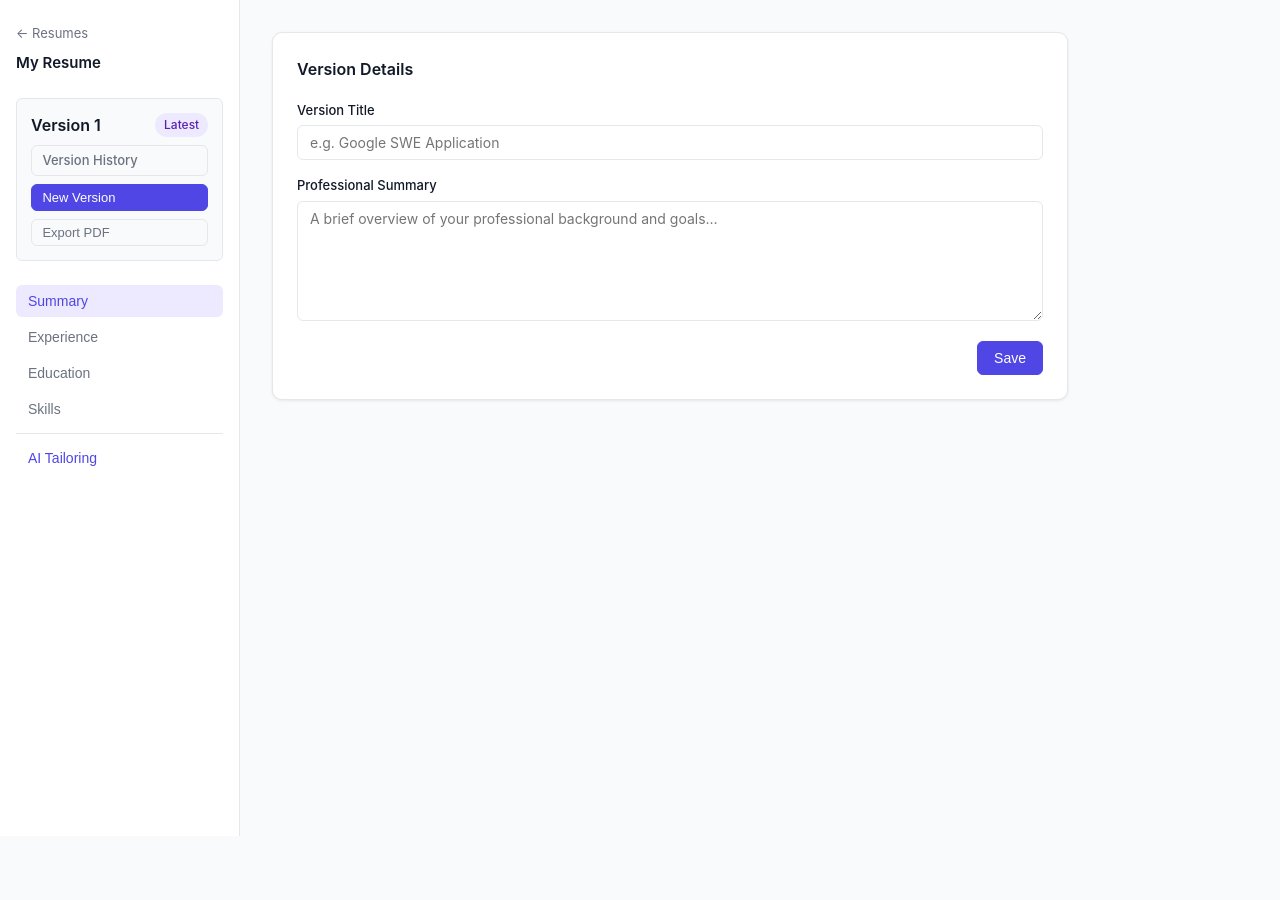
Test: ResumeEditorView › switches to AI section on nav click
The image size is (1280, 900).
Click the button with class "nav-item" showing "AI Tailoring": (120, 458) [16,442,223,474]
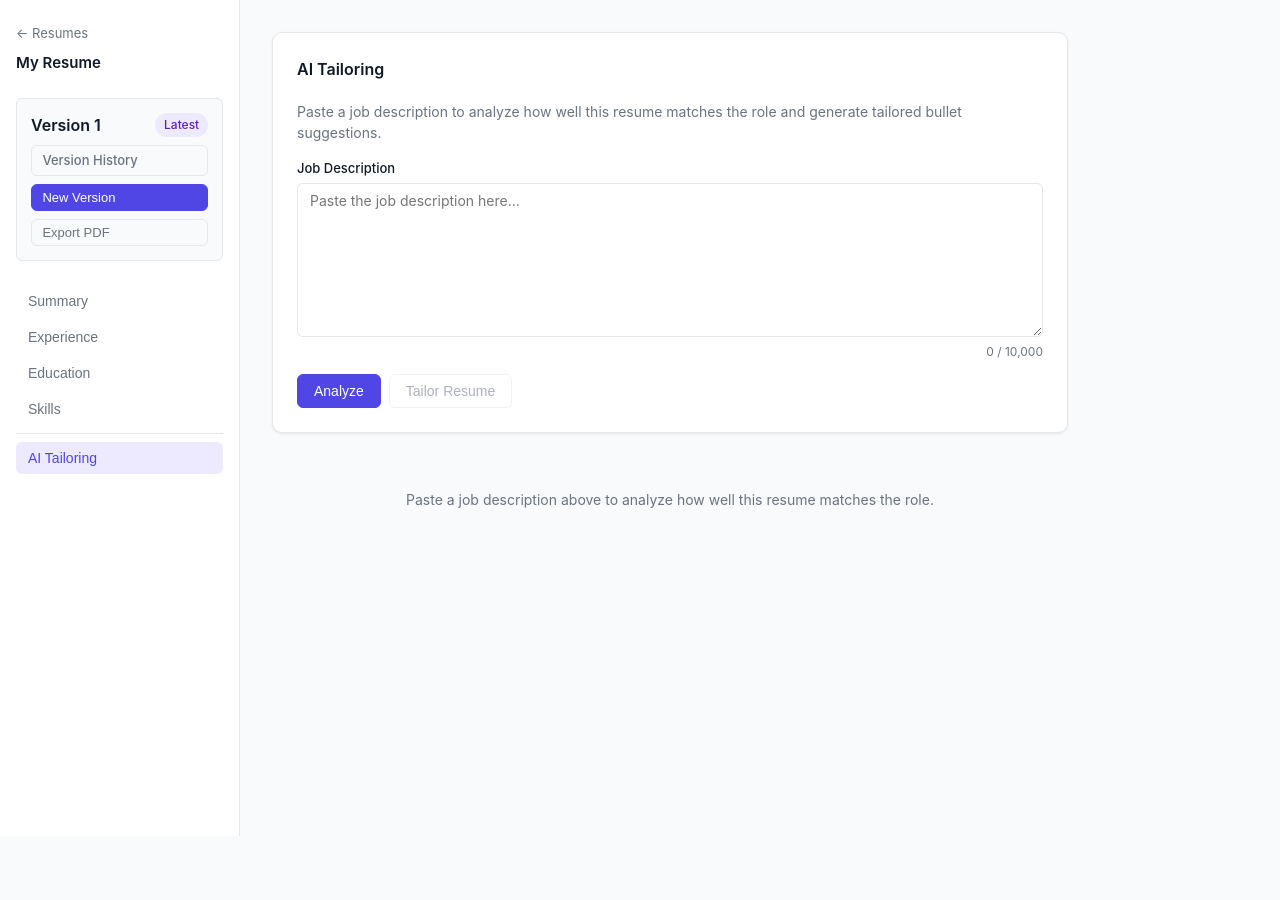
expect the text box with id "job-description" is shown: met, box [297,183,1043,337]
